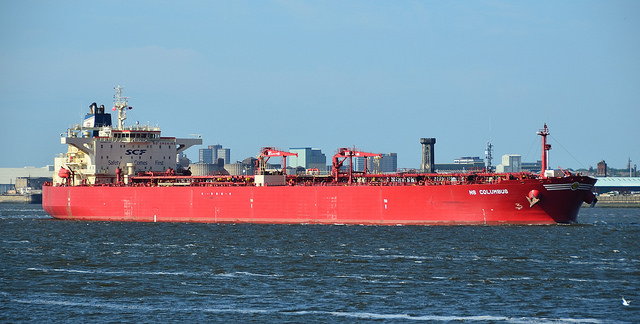tanker: (43, 92, 598, 223)
